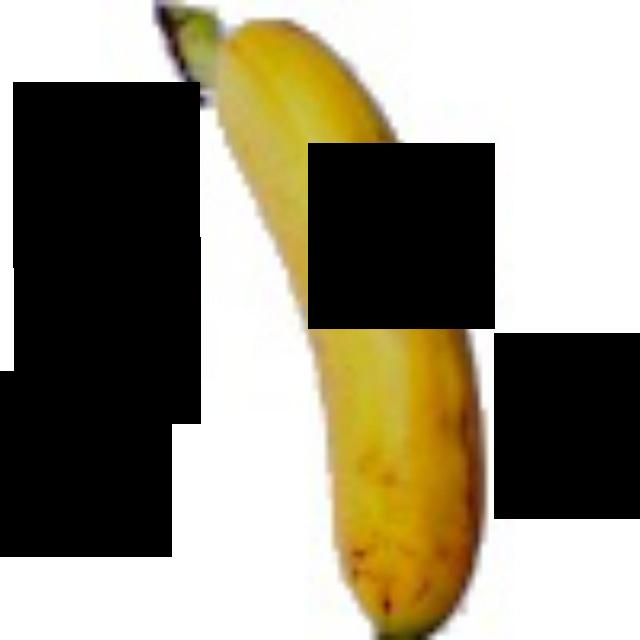banana: (140, 0, 608, 634)
